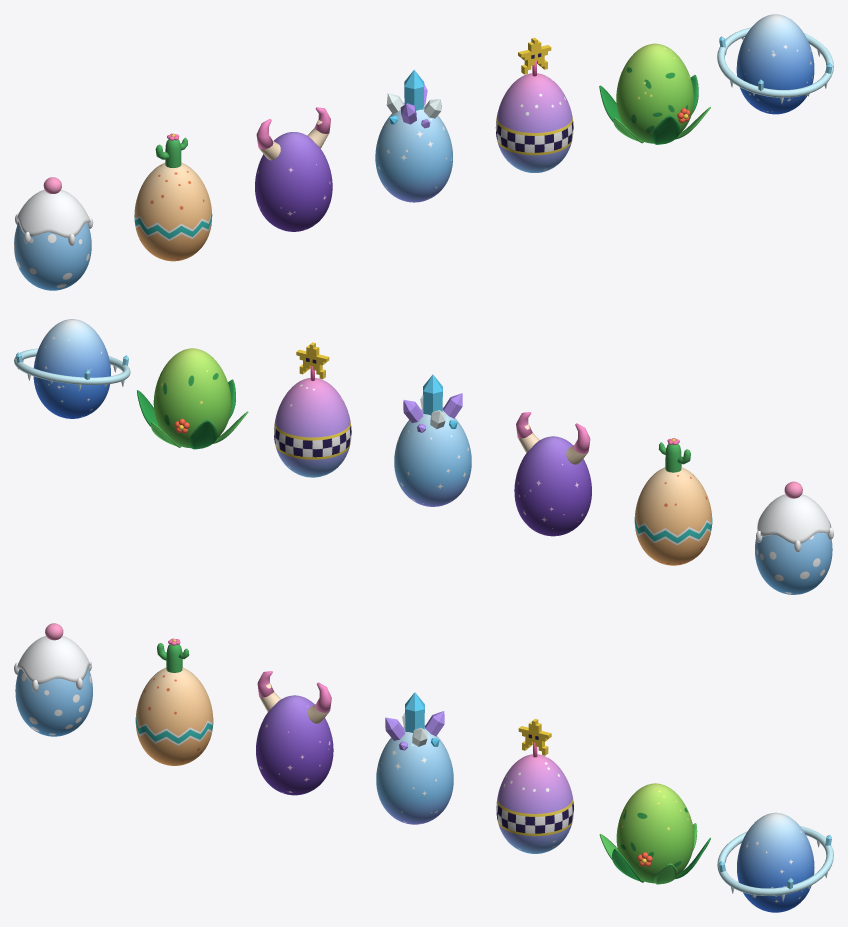
The model's file is BiomeEggs.fbx.
The picture shows the model from 3 angles, top to bottom: view 1: azimuth 30°, elevation 25°; view 2: azimuth 150°, elevation 25°; view 3: azimuth 330°, elevation 25°; orthographic projection.
Visible parts, largest first — view 1: AbsoluteZeroEgg, CrystalEgg, JungleEgg, CursedEgg, RetroEgg, DesertEgg, SnowyEgg; view 2: CrystalEgg, JungleEgg, CursedEgg, AbsoluteZeroEgg, RetroEgg, DesertEgg, SnowyEgg; view 3: AbsoluteZeroEgg, CrystalEgg, CursedEgg, JungleEgg, RetroEgg, DesertEgg, SnowyEgg.
Part boxes in pixels (<box>): AbsoluteZeroEgg: <box>717,14,833,114</box>; CrystalEgg: <box>375,70,452,202</box>; JungleEgg: <box>599,43,710,144</box>; CursedEgg: <box>255,107,332,231</box>; RetroEgg: <box>495,37,573,172</box>; DesertEgg: <box>134,133,212,261</box>; SnowyEgg: <box>14,177,93,290</box>; CrystalEgg: <box>394,374,471,506</box>; JungleEgg: <box>137,348,248,449</box>; CursedEgg: <box>514,412,591,536</box>; AbsoluteZeroEgg: <box>14,319,130,418</box>; RetroEgg: <box>274,342,351,477</box>; DesertEgg: <box>634,438,712,565</box>; SnowyEgg: <box>755,481,833,594</box>; AbsoluteZeroEgg: <box>717,812,833,912</box>; CrystalEgg: <box>376,692,453,824</box>; CursedEgg: <box>256,671,333,795</box>; JungleEgg: <box>599,783,710,884</box>; RetroEgg: <box>496,719,573,853</box>; DesertEgg: <box>135,638,213,765</box>; SnowyEgg: <box>14,623,92,736</box>.
Bounding box in the file's own units: 24.14 × 3.73 × 2.97.
Materials: 7 (7 with a texture image).
